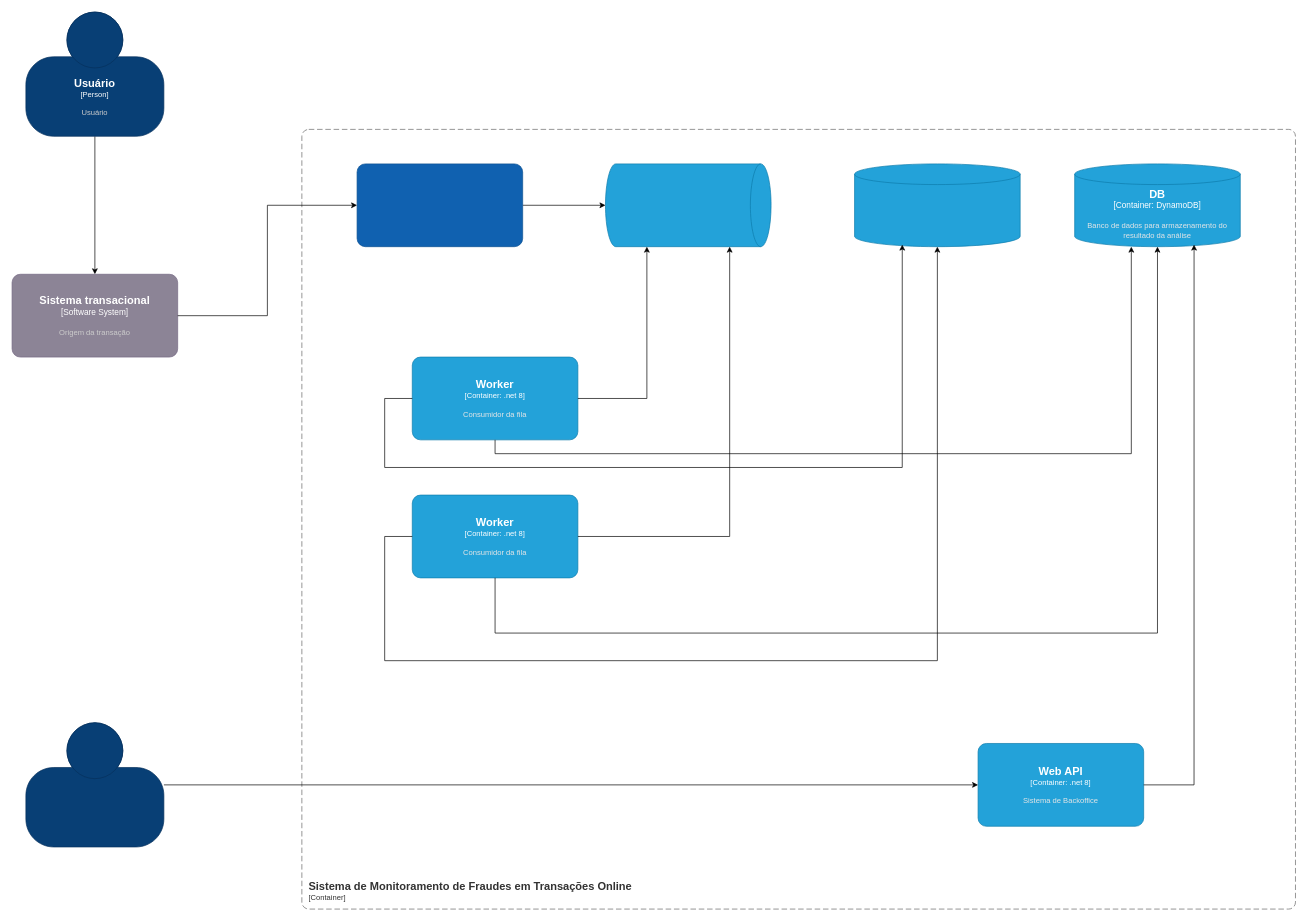
The diagram is 1308 pixels wide and 921 high, and some of its shapes have lost their labels. The centre of each missing label's shape, as x and y in pixels:
Analista de fraude [Person] Analista de fraude: (94,784)
AWS API Gateway [Software System] Gateway de entrada das requisições: (439,205)
Cache [Container: Redis] Banco de dados para centralização do cache: (937,205)
Sistema de mensageria [Container: AWS SQS] Sistema de mensageria: (688,205)
